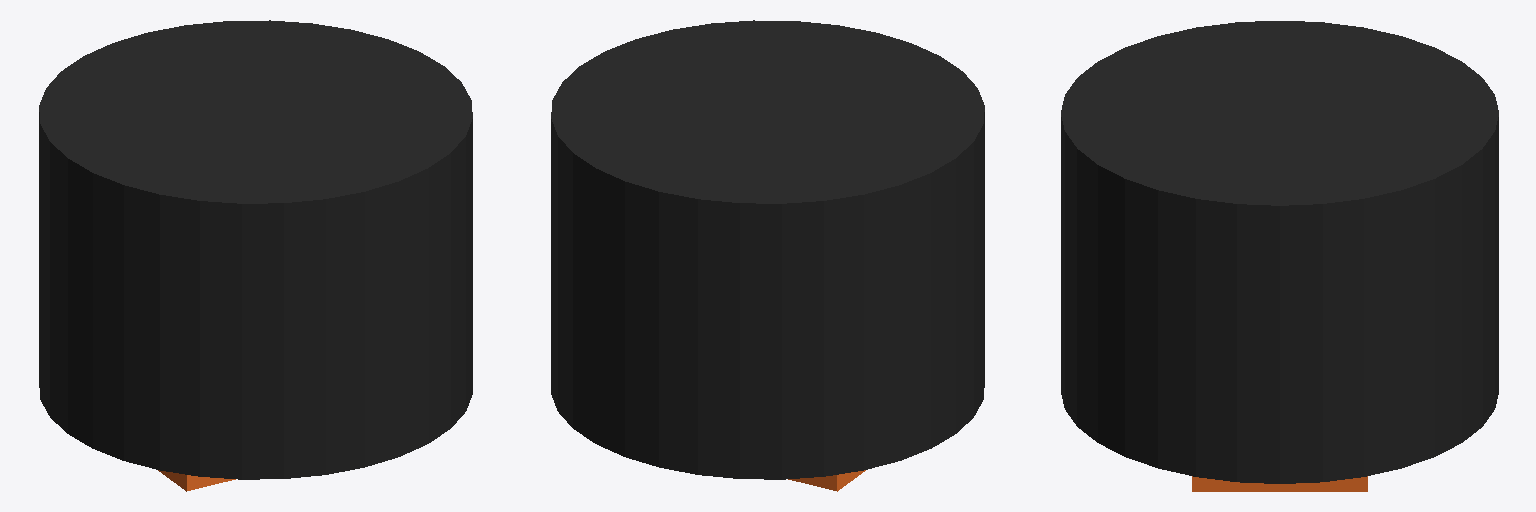
URDF robot description (cartographer_backpack_2d):
<!--
  Copyright 2016 The Cartographer Authors

  Licensed under the Apache License, Version 2.0 (the "License");
  you may not use this file except in compliance with the License.
  You may obtain a copy of the License at

       http://www.apache.org/licenses/LICENSE-2.0

  Unless required by applicable law or agreed to in writing, software
  distributed under the License is distributed on an "AS IS" BASIS,
  WITHOUT WARRANTIES OR CONDITIONS OF ANY KIND, either express or implied.
  See the License for the specific language governing permissions and
  limitations under the License.
-->

<robot name="cartographer_backpack_2d">
  <material name="orange">
    <color rgba="1.0 0.5 0.2 1" />
  </material>
  <material name="gray">
    <color rgba="0.2 0.2 0.2 1" />
  </material>

  <link name="os1_imu">
    <visual>
      <origin xyz="0.0 0.0 0.0" />
      <geometry>
        <box size="0.06 0.04 0.02" />
      </geometry>
      <material name="orange" />
    </visual>
  </link>

  <link name="os1">
    <visual>
      <origin xyz="0.0 0.0 0.0" />
      <geometry>
        <cylinder length="0.07" radius="0.05" />
      </geometry>
      <material name="gray" />
    </visual>
  </link>

  <link name="base_link" />

  <joint name="imu_link_joint" type="fixed">
    <parent link="base_link" />
    <child link="os1_imu" />
    <origin xyz="0 0 0" rpy="0 0 0" />
  </joint>

  <joint name="os1_link_joint" type="fixed">
    <parent link="base_link" />
    <child link="os1" />
    <origin xyz="0.00 0. 0.03618" rpy="0. 0 0" />
  </joint>

</robot>

--- What the picture shows (computed from the rendered views, not written in the file) ---
3 views of the same robot in one strip: view 1: azimuth 30°, elevation 25°; view 2: azimuth 150°, elevation 25°; view 3: azimuth 270°, elevation 25° (orthographic).
Model cartographer_backpack_2d with 3 links and 2 joints (2 fixed), rooted at base_link, posed every joint at zero.
Visible links, largest first — view 1: os1, os1_imu; view 2: os1, os1_imu; view 3: os1, os1_imu.
Link boxes in pixels (x1,y1,x2,y2): os1: (39, 20, 472, 479); os1_imu: (158, 470, 235, 491); os1: (551, 20, 984, 479); os1_imu: (788, 470, 865, 491); os1: (1061, 21, 1498, 483); os1_imu: (1192, 476, 1367, 491).
Size in the robot's own frame: 0.1 by 0.1 by 0.0812 metres.
Geometry: primitives only (box / cylinder / sphere), no mesh files.